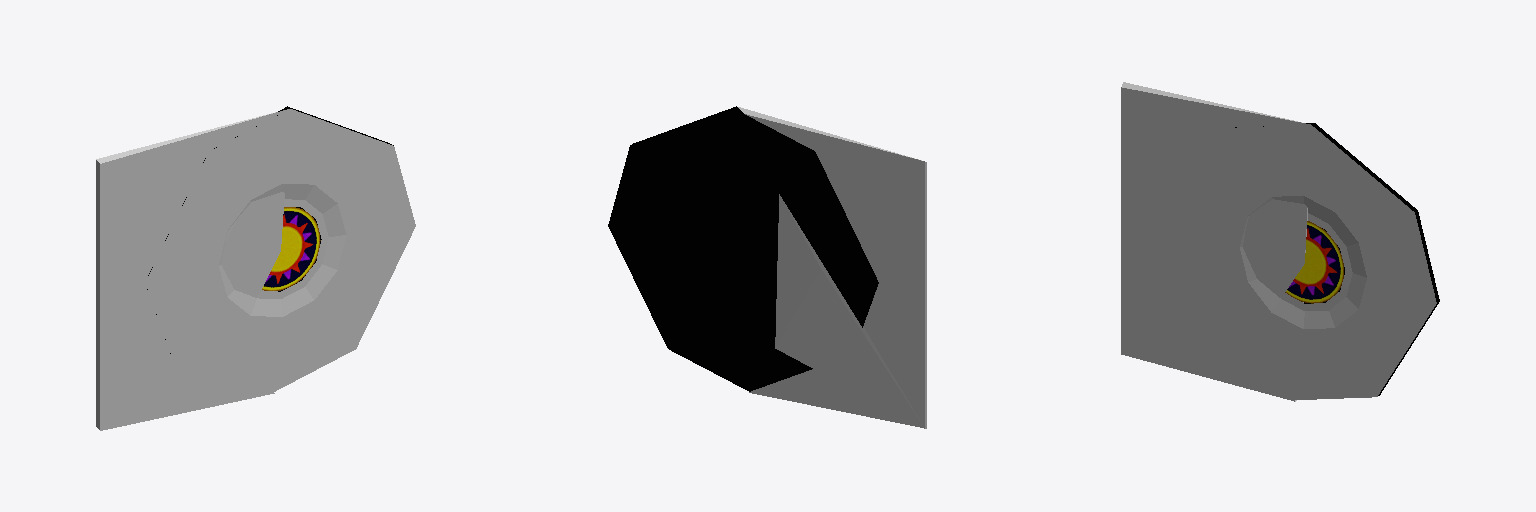
3 views of the same model, side by side, from view 1: azimuth 30°, elevation 25°; view 2: azimuth 150°, elevation 25°; view 3: azimuth 330°, elevation 25° (orthographic).
Parts seen in each view (by area): view 1: Floor; view 2: Floor; view 3: Floor.
Part boxes in pixels (bbox=[...]): Floor: bbox=[96, 106, 415, 430]; Floor: bbox=[608, 106, 926, 428]; Floor: bbox=[1121, 82, 1439, 401].
Bounding box in the file's own units: 23.84 × 20.2 × 0.4138.
Materials: 3 (1 with a texture image).